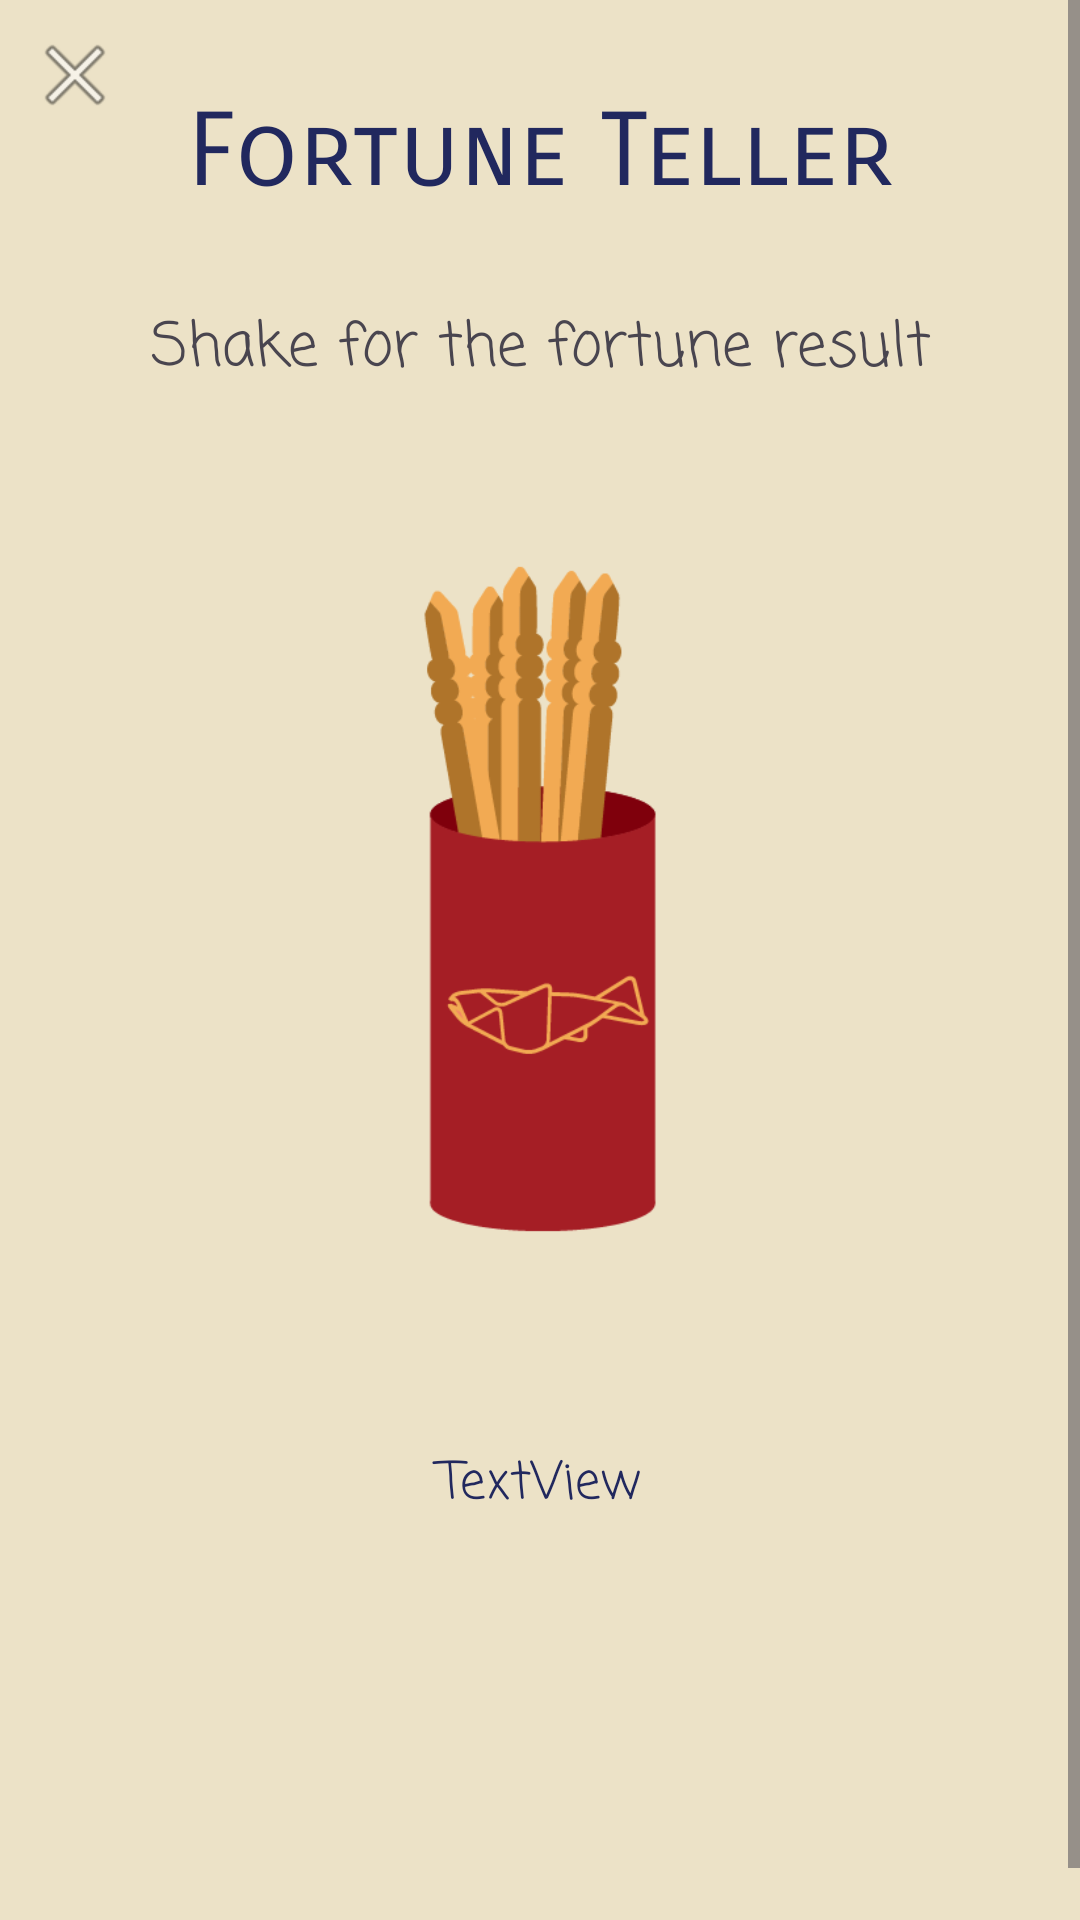

Locate icon controls on the screen. Image size 1080x1920, boxes as region(x1, y1, x2, y2).
close clear cancel: region(45, 45, 105, 105)
